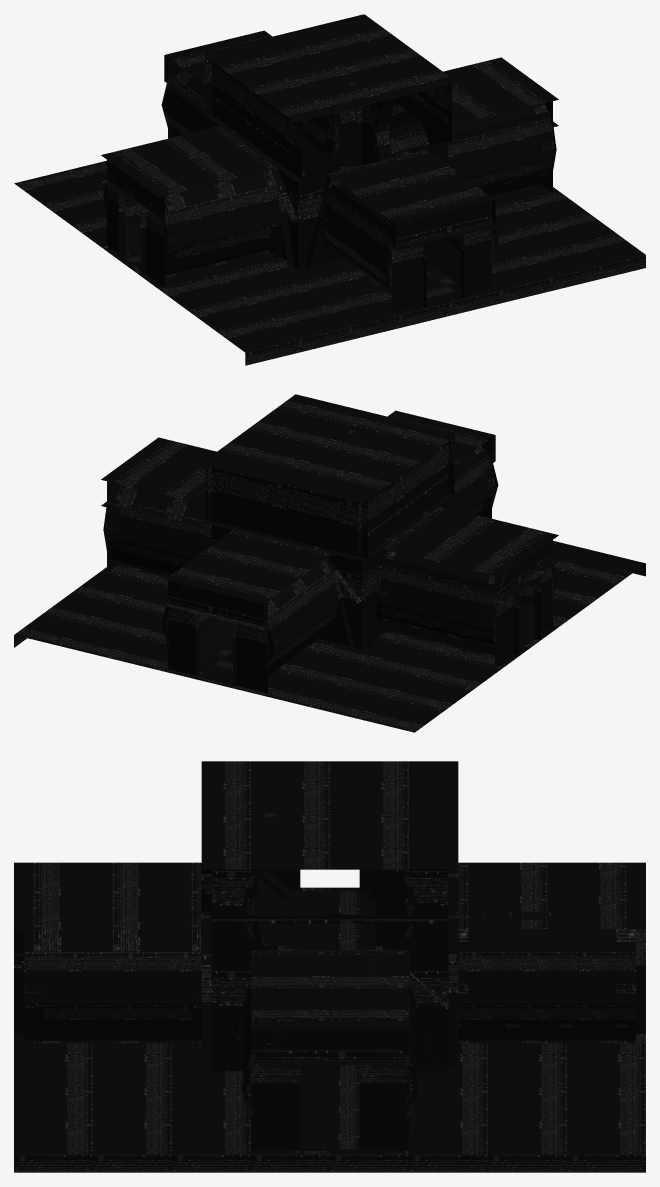
Rendered from 4tunnels_opt.obj.
3 renders of one model, top to bottom at view 1: azimuth 30°, elevation 25°; view 2: azimuth 150°, elevation 25°; view 3: azimuth 270°, elevation 25°, orthographic. The views are drawn at different scales.
Size of the model in its own units: 2048 by 803 by 2048.
